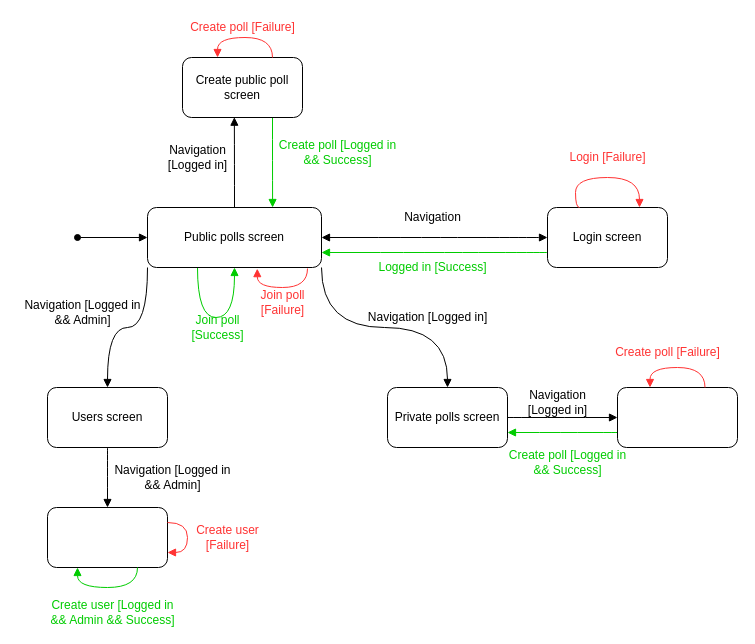
This 755x644 diagram has some shape labels left out. Here are the shapes that lost their labels. From the top down, the centre of each, then its label:
At [677,417]: "Create private poll screen".
At [107,537]: "Create user screen".
